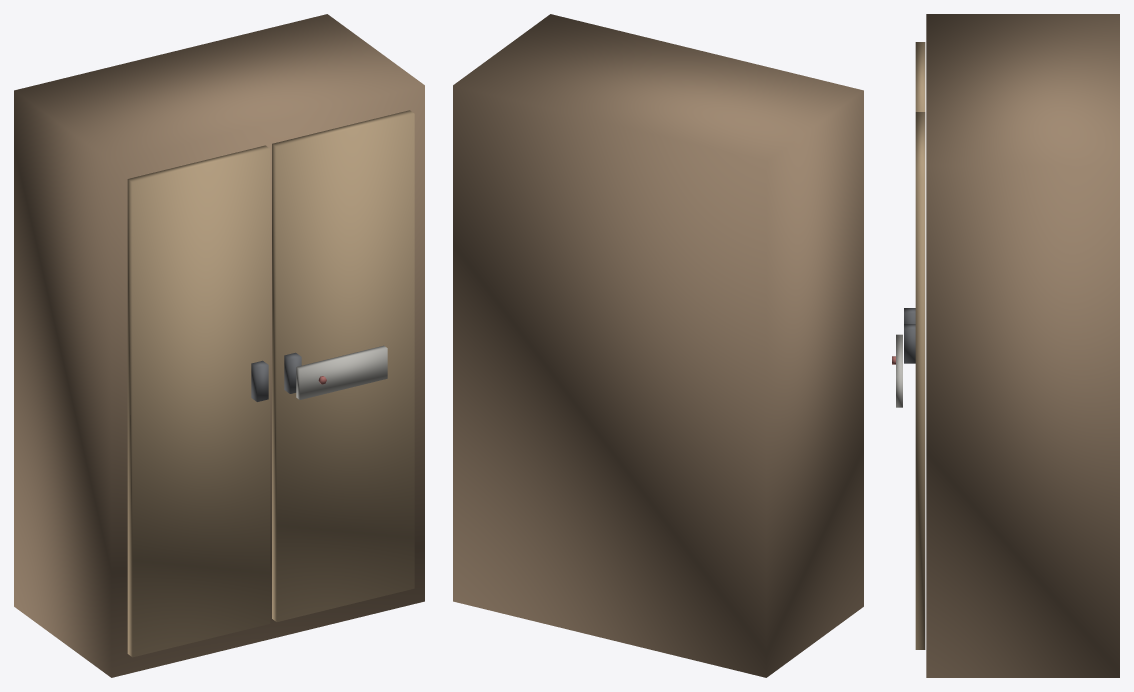
The model's file is photo_chemical_cabinet__compact.glb.
The picture shows the model from 3 angles, left to right: view 1: azimuth 30°, elevation 25°; view 2: azimuth 150°, elevation 25°; view 3: azimuth 270°, elevation 25°; orthographic projection.
Parts seen in each view (by area): view 1: world; view 2: world; view 3: world.
Part boxes in pixels (left/top/right/bottom): world: left=14, top=14, right=424, bottom=677; world: left=453, top=14, right=863, bottom=677; world: left=892, top=14, right=1119, bottom=677.
Size of the model in its own units: 0.798 by 1.26 by 0.5061.
